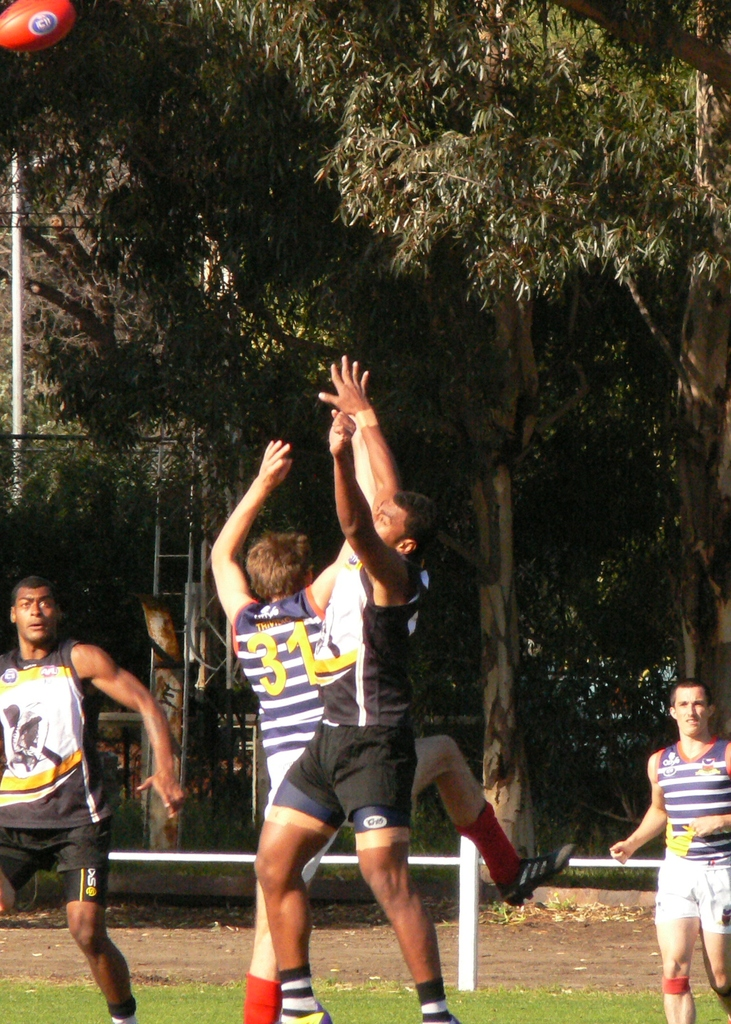Ball: (0, 1, 85, 54)
